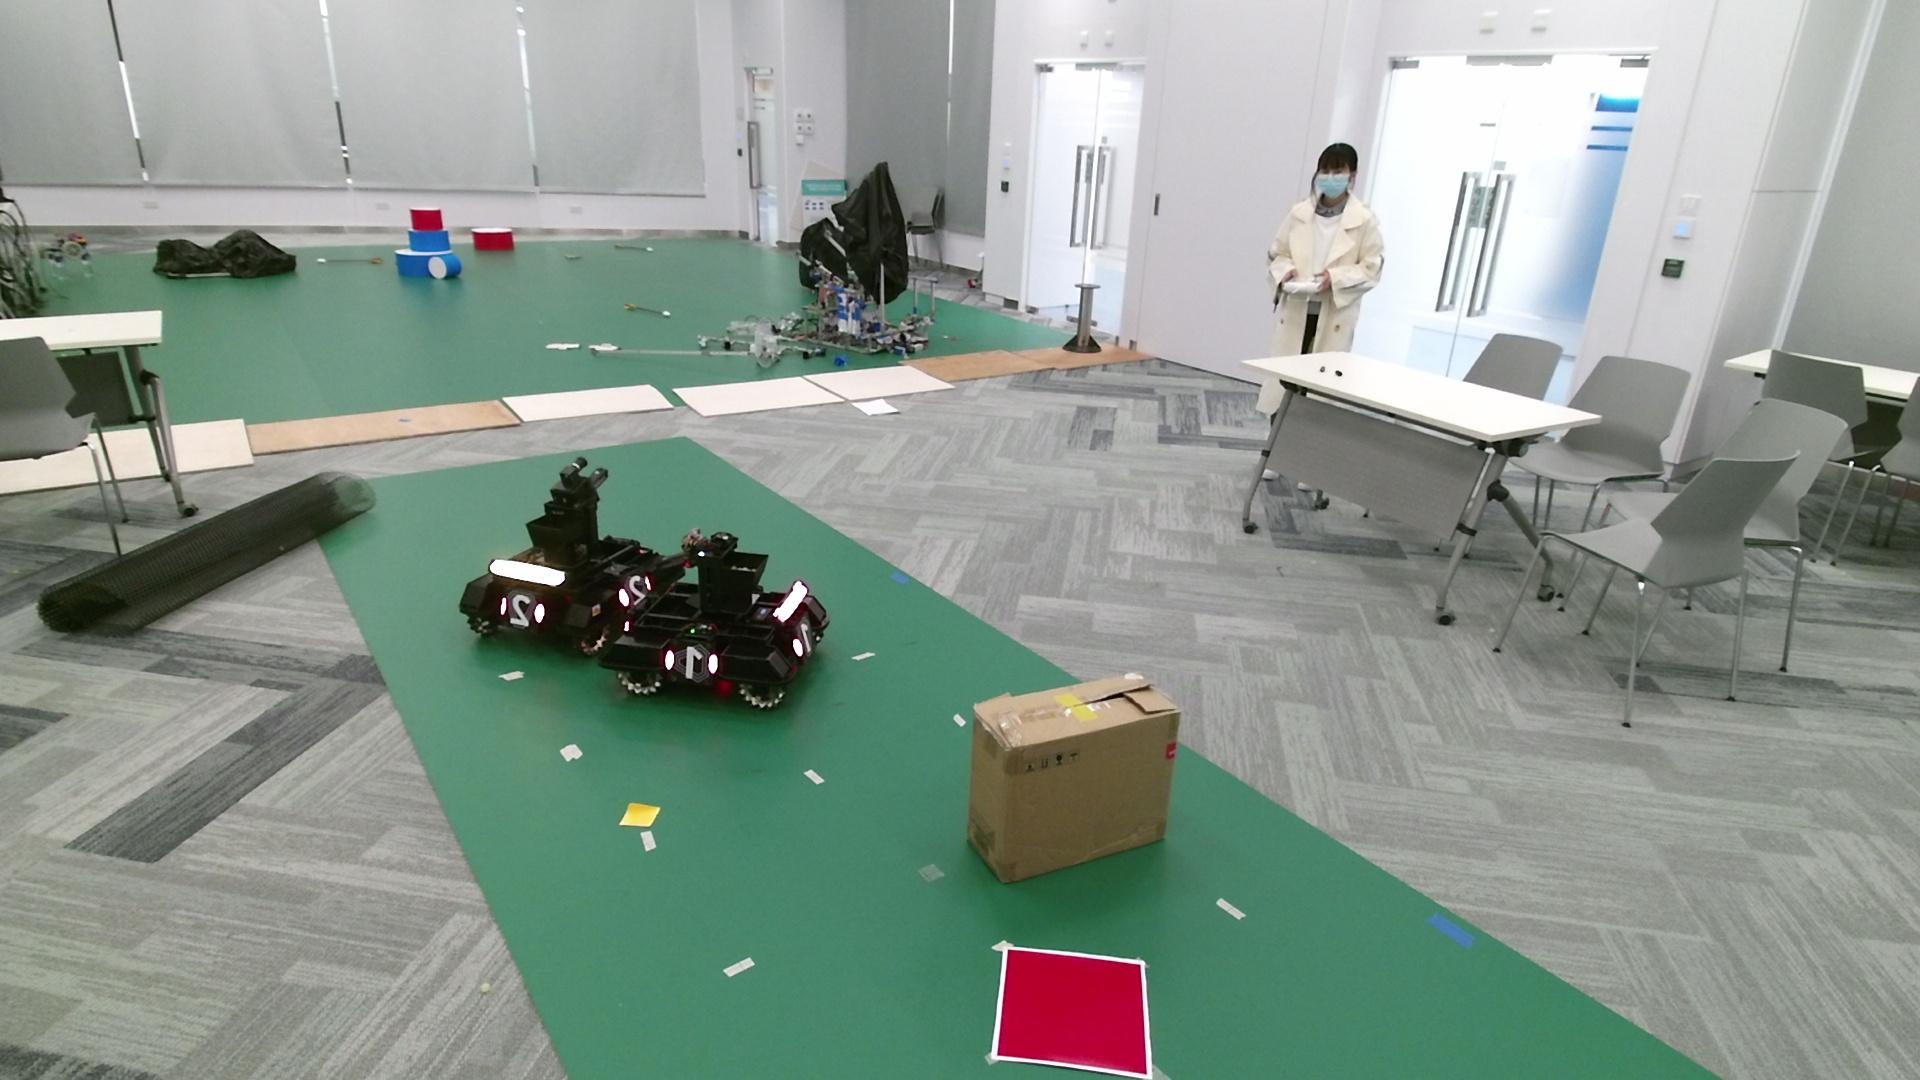robot: (460, 455, 676, 657), (597, 526, 831, 709)
